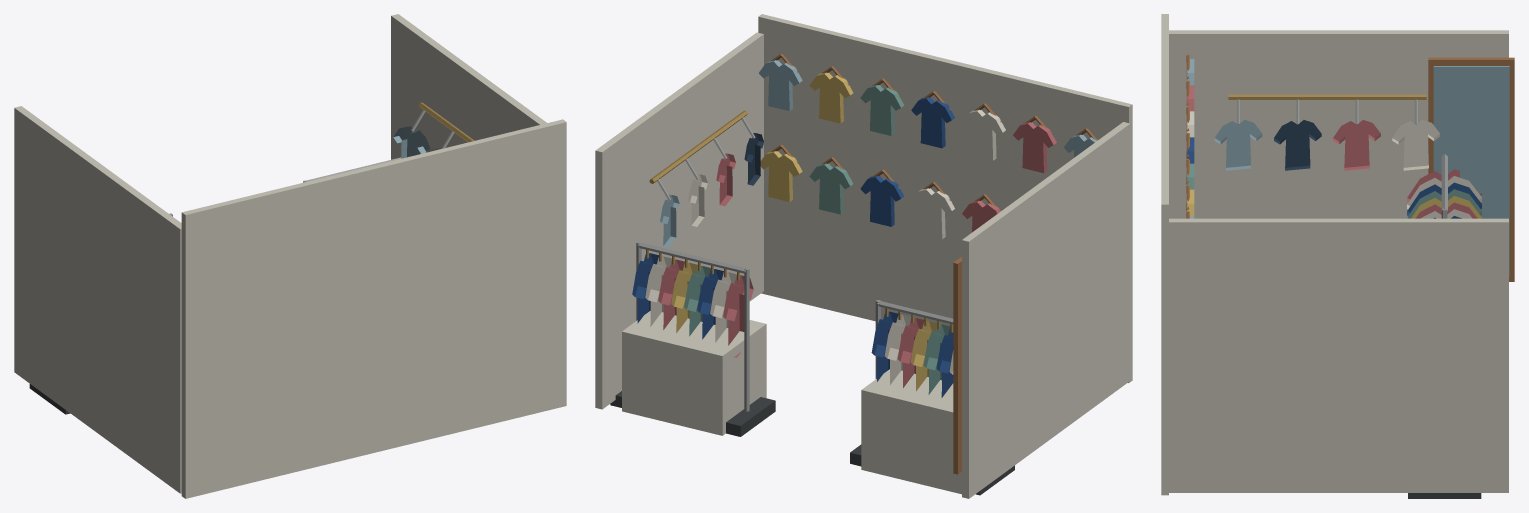
File: junior.glb
3 renders of one model, left to right at view 1: azimuth 30°, elevation 25°; view 2: azimuth 150°, elevation 25°; view 3: azimuth 270°, elevation 25°, orthographic. The views are drawn at different scales.
Parts seen in each view (by area): view 1: junior; view 2: junior; view 3: junior.
Part boxes in pixels (x1,y1,x2,y2): junior: (14,14,566,498); junior: (595,14,1132,498); junior: (1161,14,1514,498).
Bounding box in the file's own units: 3.53 × 2.52 × 2.75.
